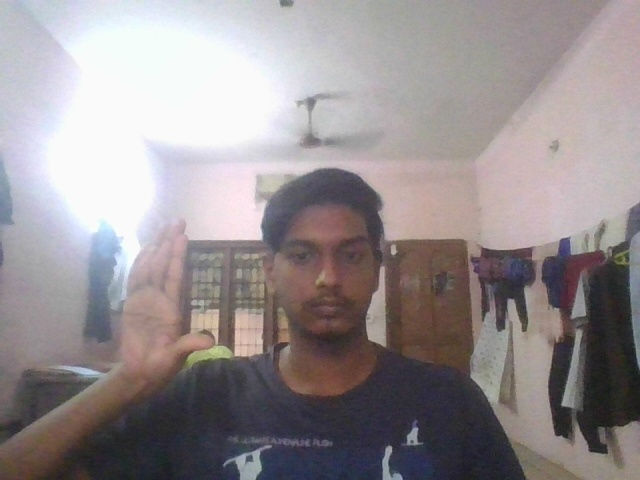hello: (113, 213, 224, 401)
